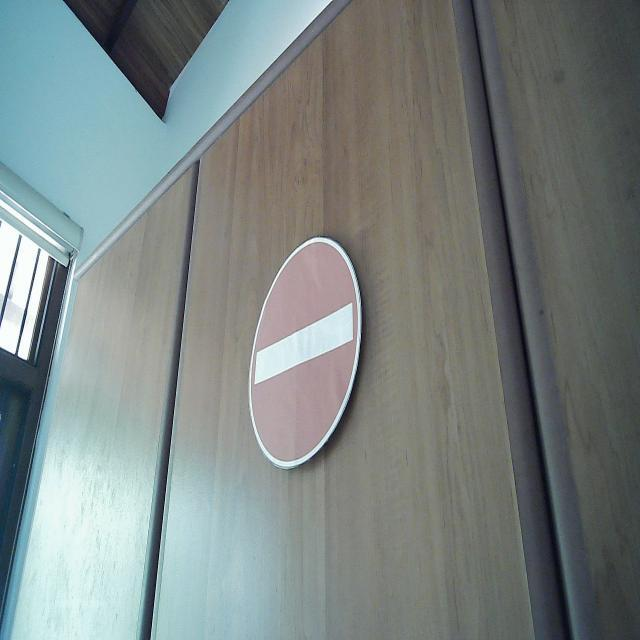no_entry: (247, 234, 364, 472)
